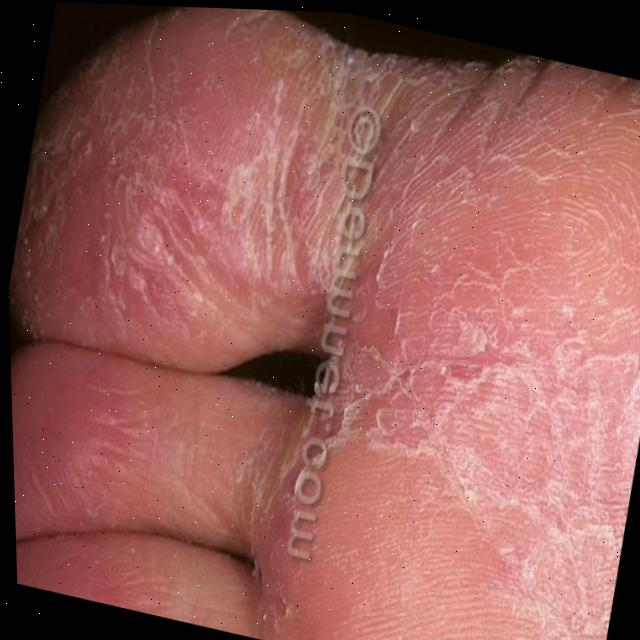Eczema: (13, 21, 640, 585)
